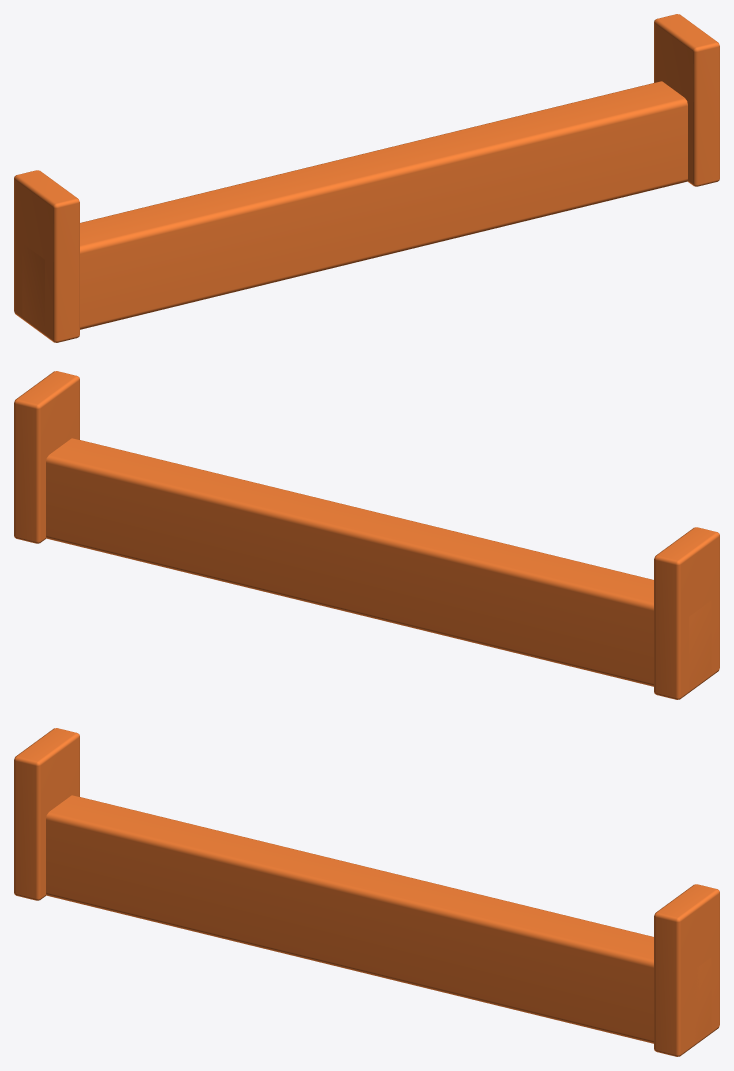
File: rack-beam.glb
The picture shows the model from 3 angles, top to bottom: view 1: azimuth 30°, elevation 25°; view 2: azimuth 150°, elevation 25°; view 3: azimuth 330°, elevation 25°; orthographic projection.
Visible parts, largest first — view 1: Box_section_beam, Beam_connector, Beam_connector.001; view 2: Box_section_beam, Beam_connector, Beam_connector.001; view 3: Box_section_beam, Beam_connector.001, Beam_connector.
Part boxes in pixels (left/top/right/bottom): Box_section_beam: left=22, top=81, right=687, bottom=331; Beam_connector: left=14, top=170, right=79, bottom=342; Beam_connector.001: left=654, top=14, right=719, bottom=186; Box_section_beam: left=46, top=438, right=711, bottom=688; Beam_connector: left=654, top=527, right=719, bottom=699; Beam_connector.001: left=14, top=371, right=79, bottom=543; Box_section_beam: left=46, top=795, right=711, bottom=1043; Beam_connector.001: left=654, top=884, right=719, bottom=1056; Beam_connector: left=14, top=728, right=79, bottom=900.
Bounding box in the file's own units: 1 × 0.2 × 0.11.
